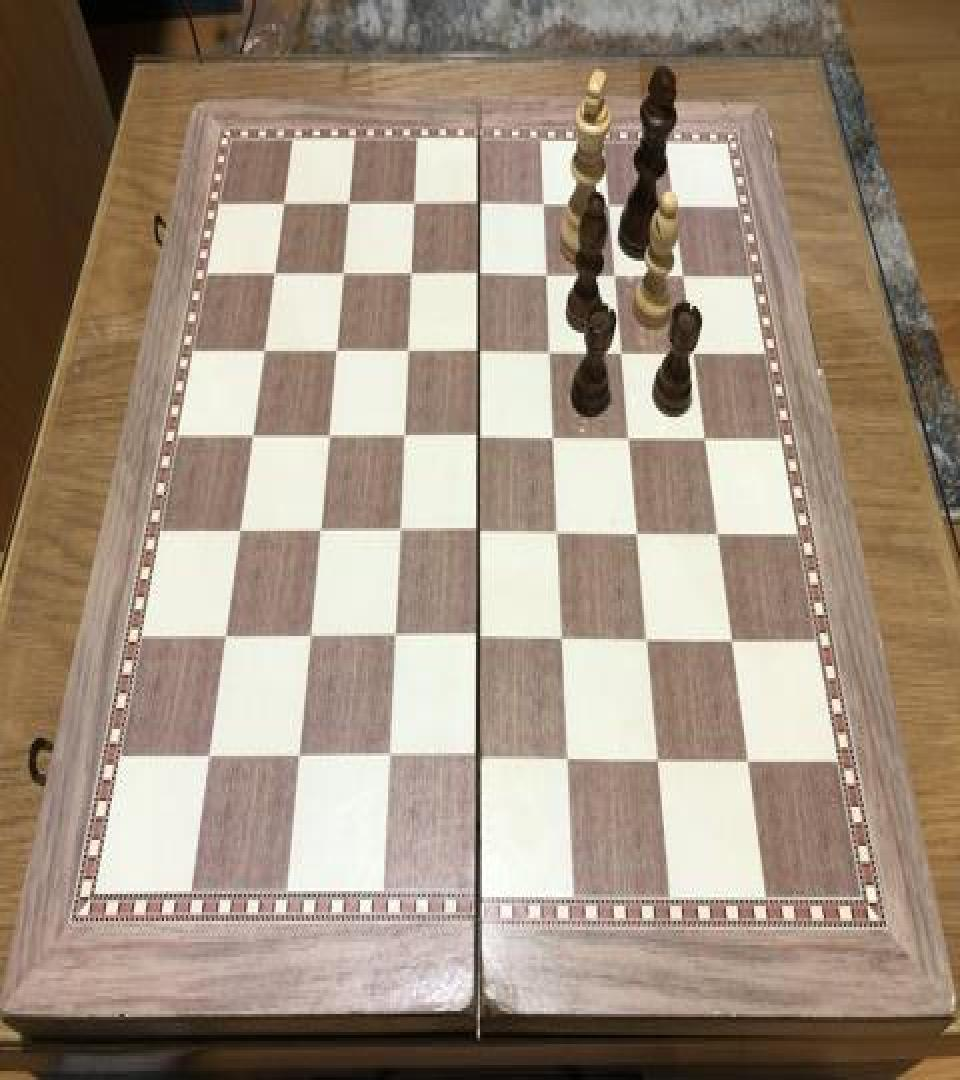xcorner: (547, 514, 571, 551), (637, 622, 661, 659), (215, 616, 239, 653), (648, 742, 672, 779), (559, 742, 583, 779), (379, 739, 403, 776), (659, 190, 683, 226), (595, 189, 619, 225), (530, 189, 554, 225), (402, 186, 426, 222), (337, 184, 361, 220), (273, 184, 297, 220), (534, 258, 558, 294), (466, 256, 490, 292), (399, 255, 423, 291), (331, 255, 355, 291), (263, 254, 287, 290), (680, 338, 704, 374), (609, 336, 633, 372), (538, 334, 562, 370), (467, 333, 491, 369), (396, 333, 420, 369), (325, 332, 349, 368), (253, 330, 277, 366), (692, 422, 716, 458), (617, 422, 641, 458), (542, 420, 566, 456), (467, 418, 491, 454), (392, 417, 416, 453), (317, 416, 341, 452), (242, 416, 266, 452), (705, 518, 729, 554), (626, 516, 650, 552), (468, 513, 492, 549), (388, 513, 412, 549), (309, 512, 333, 548), (229, 510, 253, 546), (721, 624, 745, 660), (553, 621, 577, 657), (468, 620, 492, 656), (384, 620, 408, 656), (300, 618, 324, 654), (738, 744, 762, 780), (469, 741, 493, 777), (289, 738, 313, 774), (199, 738, 223, 774), (466, 188, 490, 223), (669, 260, 693, 295), (601, 260, 625, 295)
